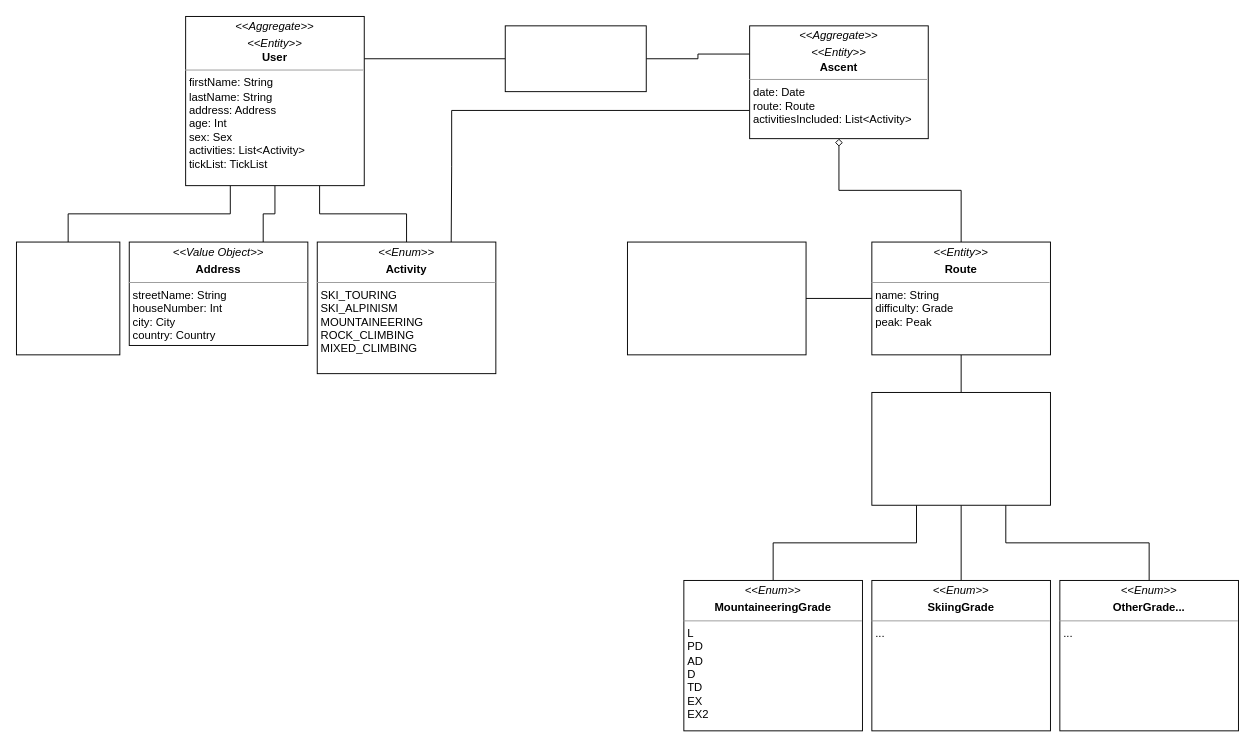
This 1255x747 diagram has some shape labels left out. Here are the shapes that lost their labels. From the top down, the box of each, then its label:
(504, 25, 646, 92): <<Entity>> TickList ascents: List<Ascent>
(16, 241, 120, 355): <<Enum>> Sex FEMALE MALE NON_DISCLOSED OTHER
(627, 241, 806, 355): <<Entity>> Peak name: String location: Location height: Int routes: List<Route>
(871, 392, 1050, 505): <<Value Object>> Grade mountaineeringGrade:
